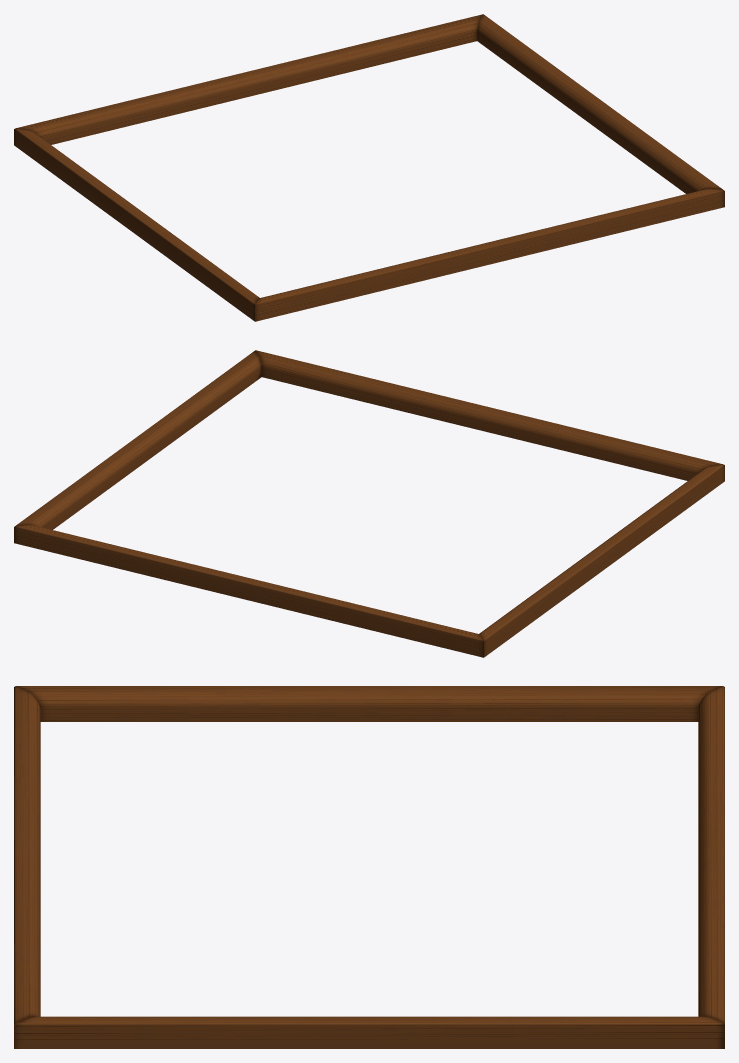
The model's file is Map_Border.fbx.
The picture shows the model from 3 angles, top to bottom: view 1: azimuth 30°, elevation 25°; view 2: azimuth 150°, elevation 25°; view 3: azimuth 270°, elevation 25°; orthographic projection. The views are drawn at different scales.
Parts seen in each view (by area): view 1: Map_Border; view 2: Map_Border; view 3: Map_Border.
Boxes of the visible parts, box(x1,y1,x2,y2) form: Map_Border: box(14, 14, 724, 321); Map_Border: box(14, 350, 724, 657); Map_Border: box(14, 686, 724, 1048).
Bounding box in the file's own units: 60.26 × 2.11 × 53.56.
Materials: 1 (1 with a texture image).
